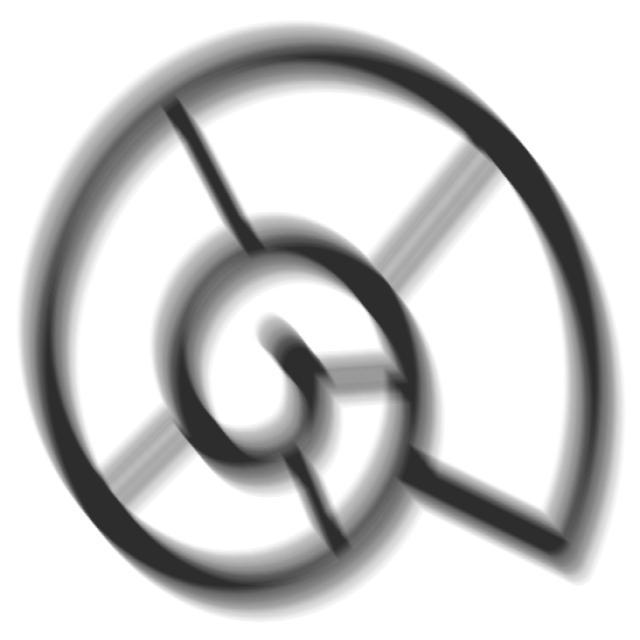fossil: (13, 13, 631, 632)
